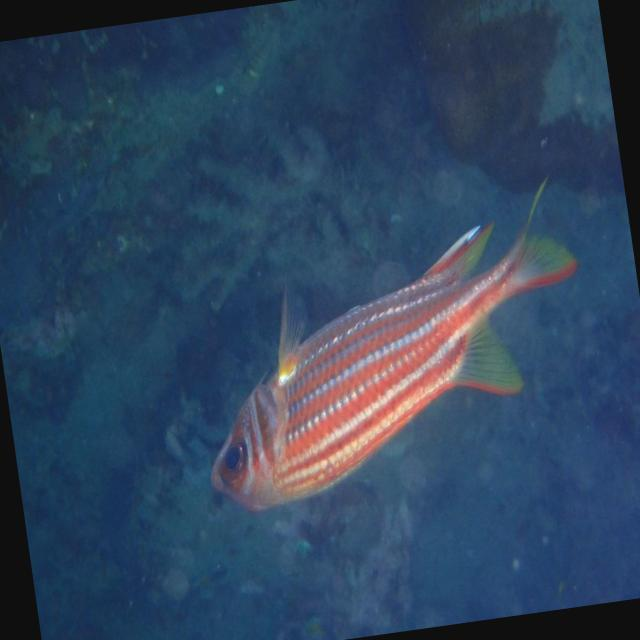Asker Baligi: (158, 158, 617, 552)
